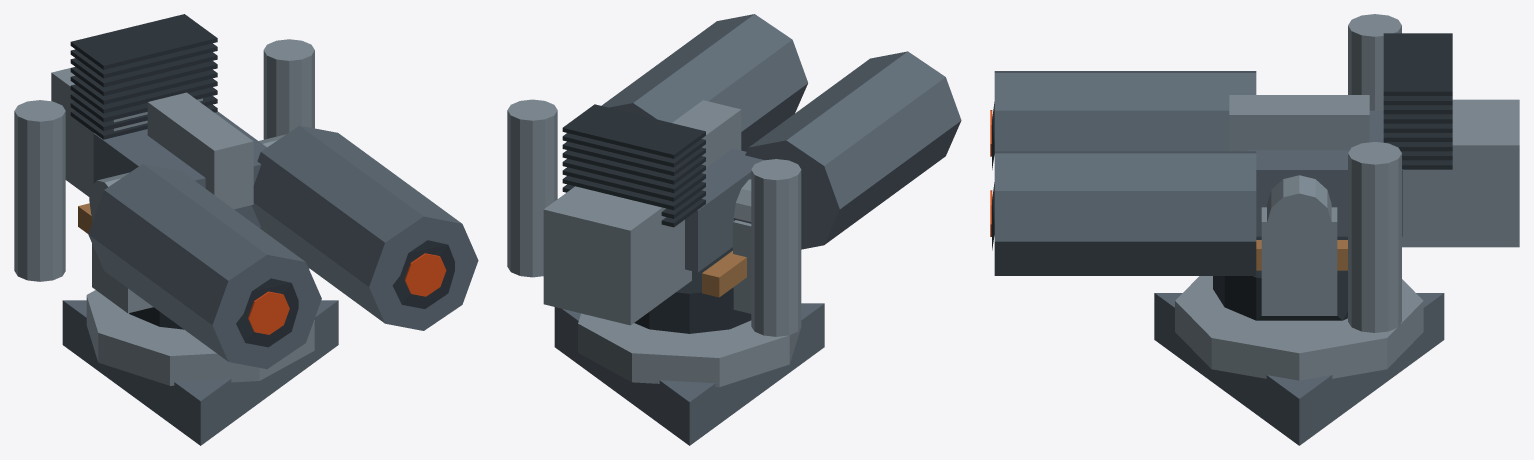
File: kiln_t3_d0.meshopt.glb
The picture shows the model from 3 angles, left to right: view 1: azimuth 30°, elevation 25°; view 2: azimuth 150°, elevation 25°; view 3: azimuth 270°, elevation 25°; orthographic projection. The views are drawn at different scales.
Parts seen in each view (by area): view 1: ROOT_ARMOR_GEOMETRY; view 2: ROOT_ARMOR_GEOMETRY; view 3: ROOT_ARMOR_GEOMETRY.
Boxes of the visible parts, bbox=[...] form: ROOT_ARMOR_GEOMETRY: bbox=[14, 14, 478, 445]; ROOT_ARMOR_GEOMETRY: bbox=[507, 14, 961, 445]; ROOT_ARMOR_GEOMETRY: bbox=[990, 14, 1519, 445].
Bounding box in the file's own units: 1.65 × 1.6 × 2.45.
